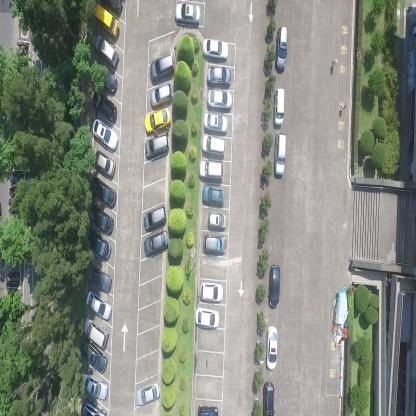car: (93, 0, 120, 39), (82, 316, 110, 350), (80, 339, 108, 373), (85, 289, 113, 322), (89, 145, 116, 179), (91, 117, 118, 150), (90, 176, 117, 209), (94, 34, 119, 69), (91, 88, 117, 121), (86, 228, 112, 261), (89, 203, 114, 235), (80, 372, 108, 400), (86, 263, 112, 293), (150, 52, 174, 84), (144, 105, 171, 133), (94, 62, 118, 93), (135, 377, 160, 406), (144, 228, 169, 257), (145, 132, 170, 159), (203, 36, 229, 61), (150, 82, 174, 109), (173, 2, 201, 25), (267, 265, 281, 310), (275, 24, 288, 72), (265, 324, 278, 370), (143, 205, 166, 231), (203, 232, 227, 256), (198, 159, 223, 182), (195, 307, 220, 330), (274, 132, 286, 178), (207, 64, 231, 87), (203, 112, 228, 134), (202, 134, 225, 157), (200, 185, 224, 207), (200, 281, 224, 303), (272, 87, 285, 127), (80, 398, 108, 416), (207, 90, 232, 110), (262, 380, 275, 415), (207, 211, 227, 229), (196, 403, 219, 415)
